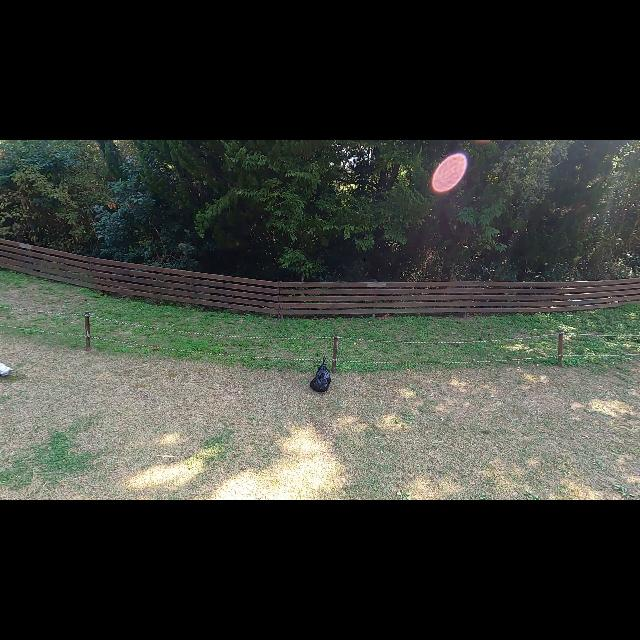trash: (312, 357, 332, 388), (310, 364, 330, 394)
